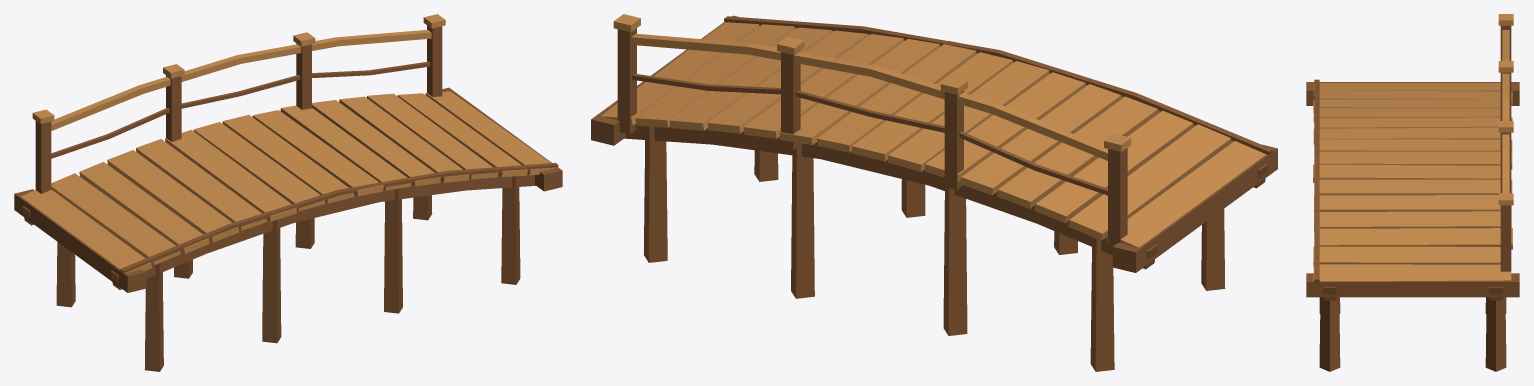
File: BRG_River_Main_01.fbx
3 views of the same model, side by side, from view 1: azimuth 30°, elevation 25°; view 2: azimuth 150°, elevation 25°; view 3: azimuth 270°, elevation 25° (orthographic). The views are drawn at different scales.
Visible parts, largest first — view 1: BRG_River_Main_01; view 2: BRG_River_Main_01; view 3: BRG_River_Main_01.
Boxes of the visible parts, x1,y1,x2,y2 form: BRG_River_Main_01: [14, 14, 562, 371]; BRG_River_Main_01: [591, 14, 1277, 371]; BRG_River_Main_01: [1306, 14, 1519, 371].
Size of the model in its own units: 6.64 by 2.95 by 2.98.
